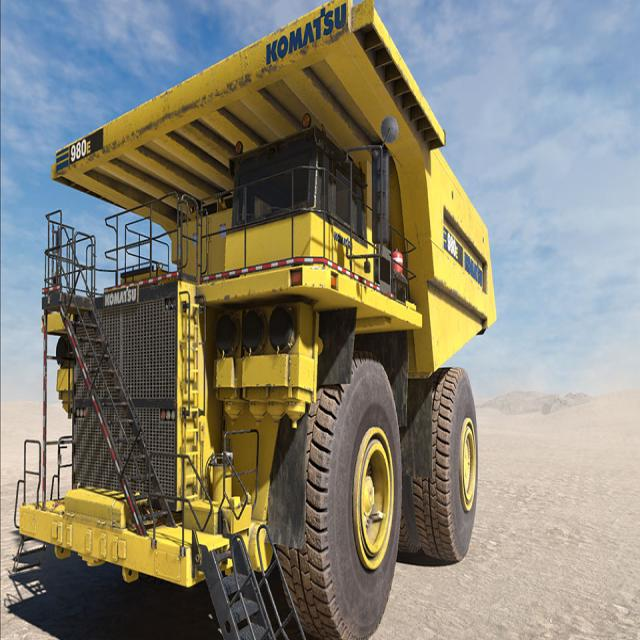dump_truck: (19, 4, 496, 626)
